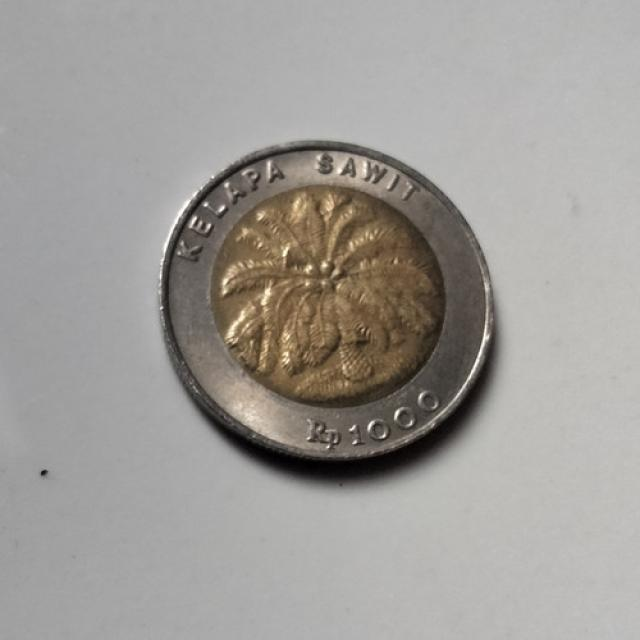1000-sawit: (138, 130, 530, 504)
